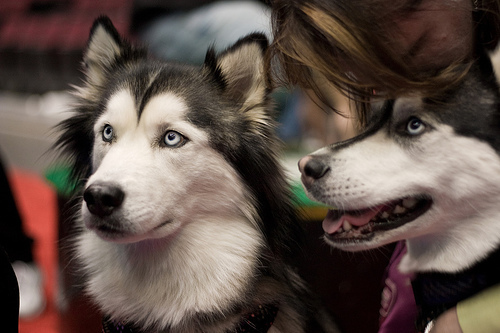dog: (37, 12, 401, 332), (299, 52, 499, 332)
